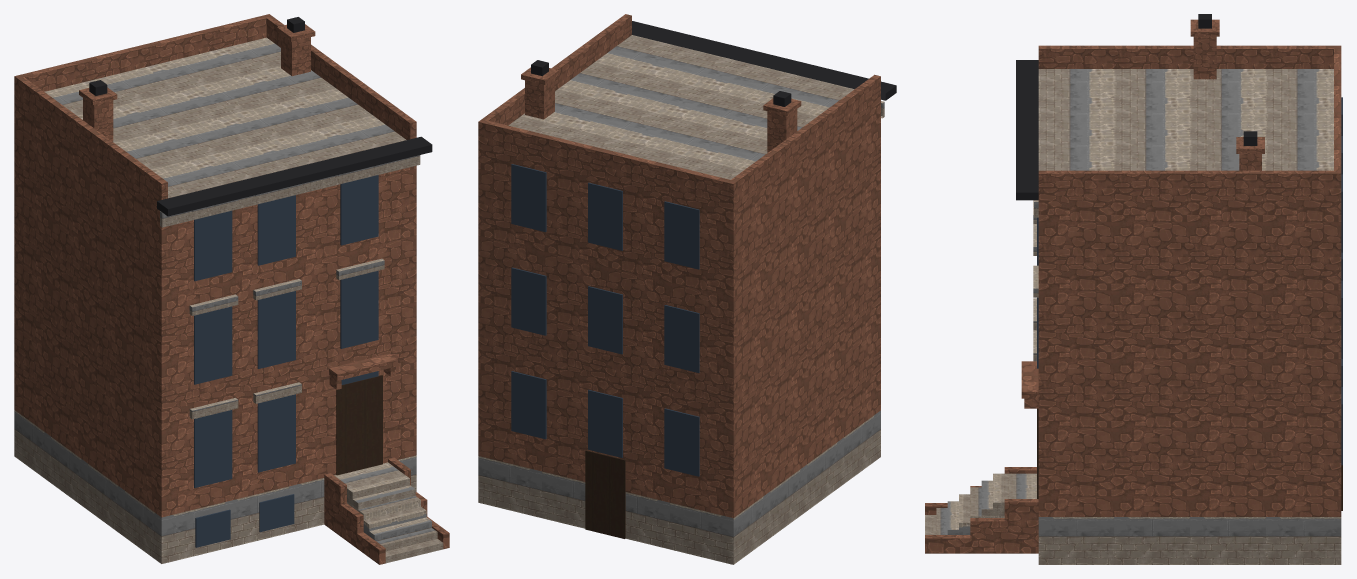
The model's file is brownstone.glb.
The picture shows the model from 3 angles, left to right: view 1: azimuth 30°, elevation 25°; view 2: azimuth 150°, elevation 25°; view 3: azimuth 270°, elevation 25°; orthographic projection. The views are drawn at different scales.
Parts seen in each view (by area): view 1: brownstone; view 2: brownstone; view 3: brownstone.
Boxes of the visible parts, x1,y1,x2,y2 form: brownstone: (14,14,449,564); brownstone: (478,14,896,564); brownstone: (925,14,1342,564).
Size of the model in its own units: 8.3 by 12.5 by 11.04.
Materials: 5 (3 with a texture image).
